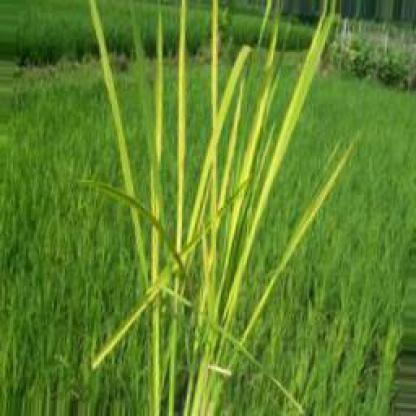Tungro: (207, 143, 356, 400), (221, 6, 335, 322), (221, 11, 291, 292), (178, 39, 258, 276), (84, 3, 150, 281), (144, 16, 168, 414), (92, 278, 154, 377), (206, 2, 221, 351), (161, 320, 213, 414), (176, 3, 186, 291)
